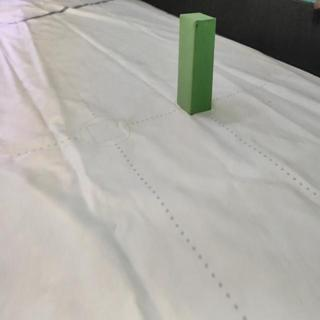greenbox: (177, 12, 217, 117)
